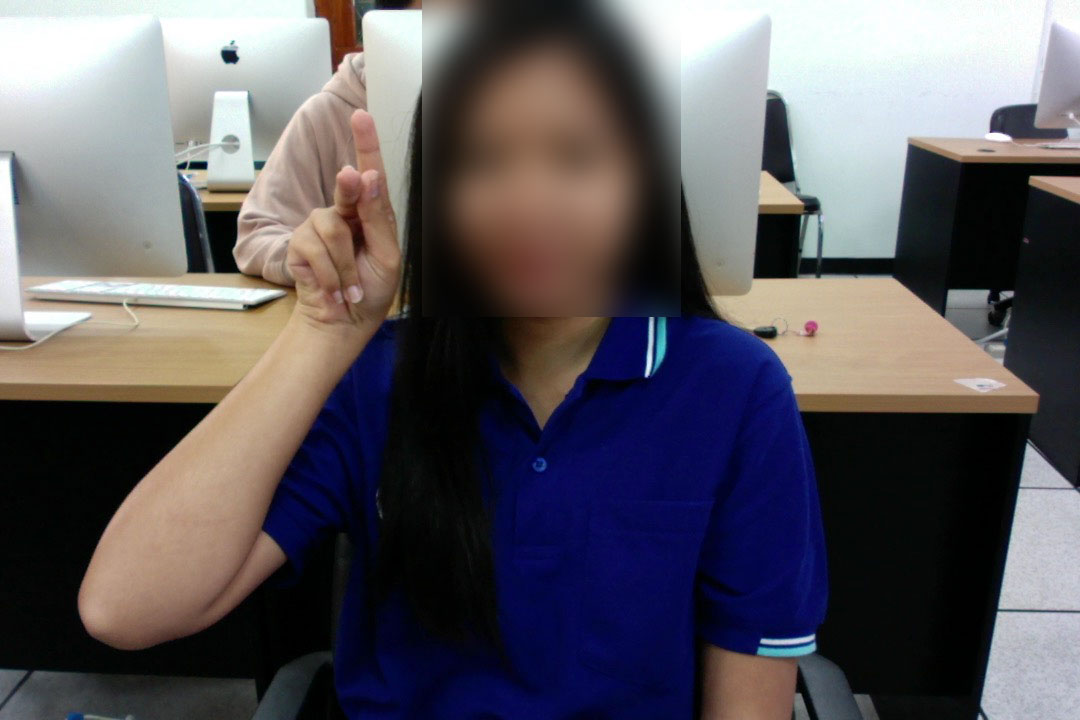ko: (279, 97, 406, 342)
